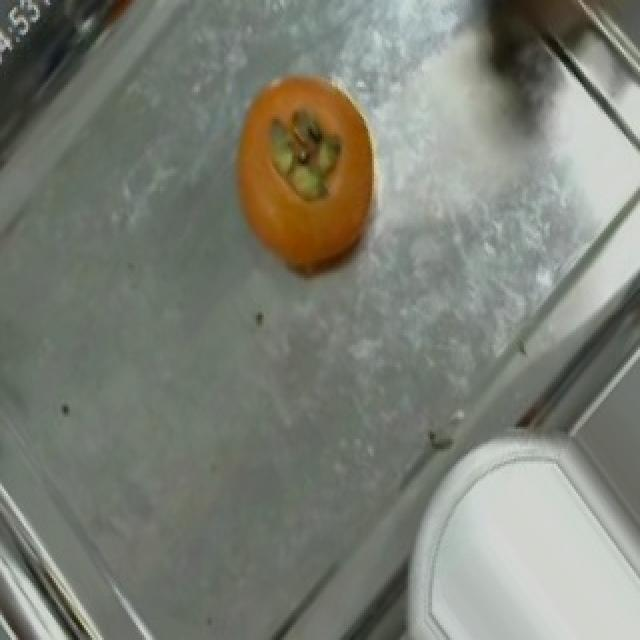Fruit: (210, 50, 410, 295), (404, 437, 638, 638)
